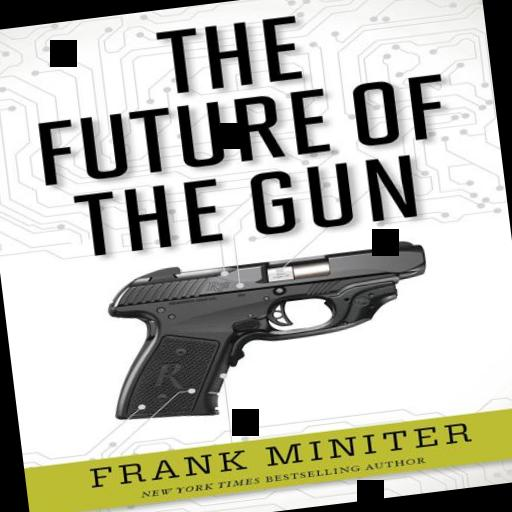Handgun: (86, 234, 444, 429)
